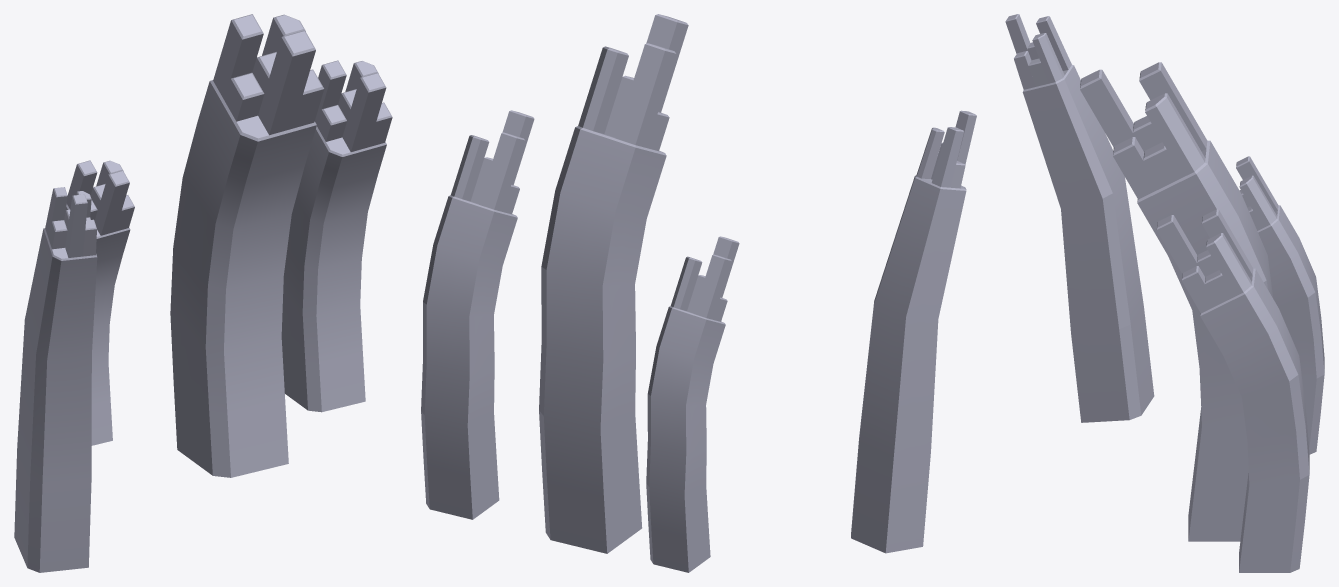
File: Pillars_1.fbx
The picture shows the model from 3 angles, left to right: view 1: azimuth 30°, elevation 25°; view 2: azimuth 150°, elevation 25°; view 3: azimuth 270°, elevation 25°; orthographic projection. The views are drawn at different scales.
Parts seen in each view (by area): view 1: Pillars_1; view 2: Pillars_1; view 3: Pillars_1.
Boxes of the visible parts, x1,y1,x2,y2 form: Pillars_1: (14,14,392,572); Pillars_1: (421,14,976,572); Pillars_1: (1005,14,1324,572).
Bounding box in the file's own units: 57.45 × 61.74 × 39.73.
